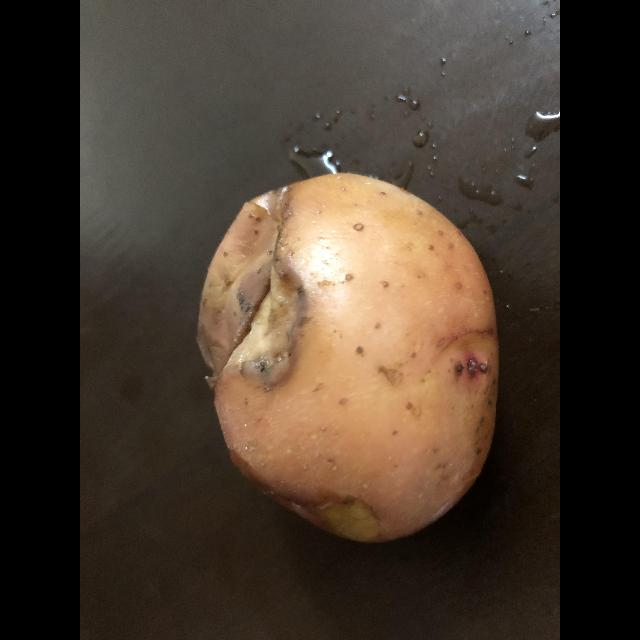Damaged potato: (203, 180, 493, 536)
